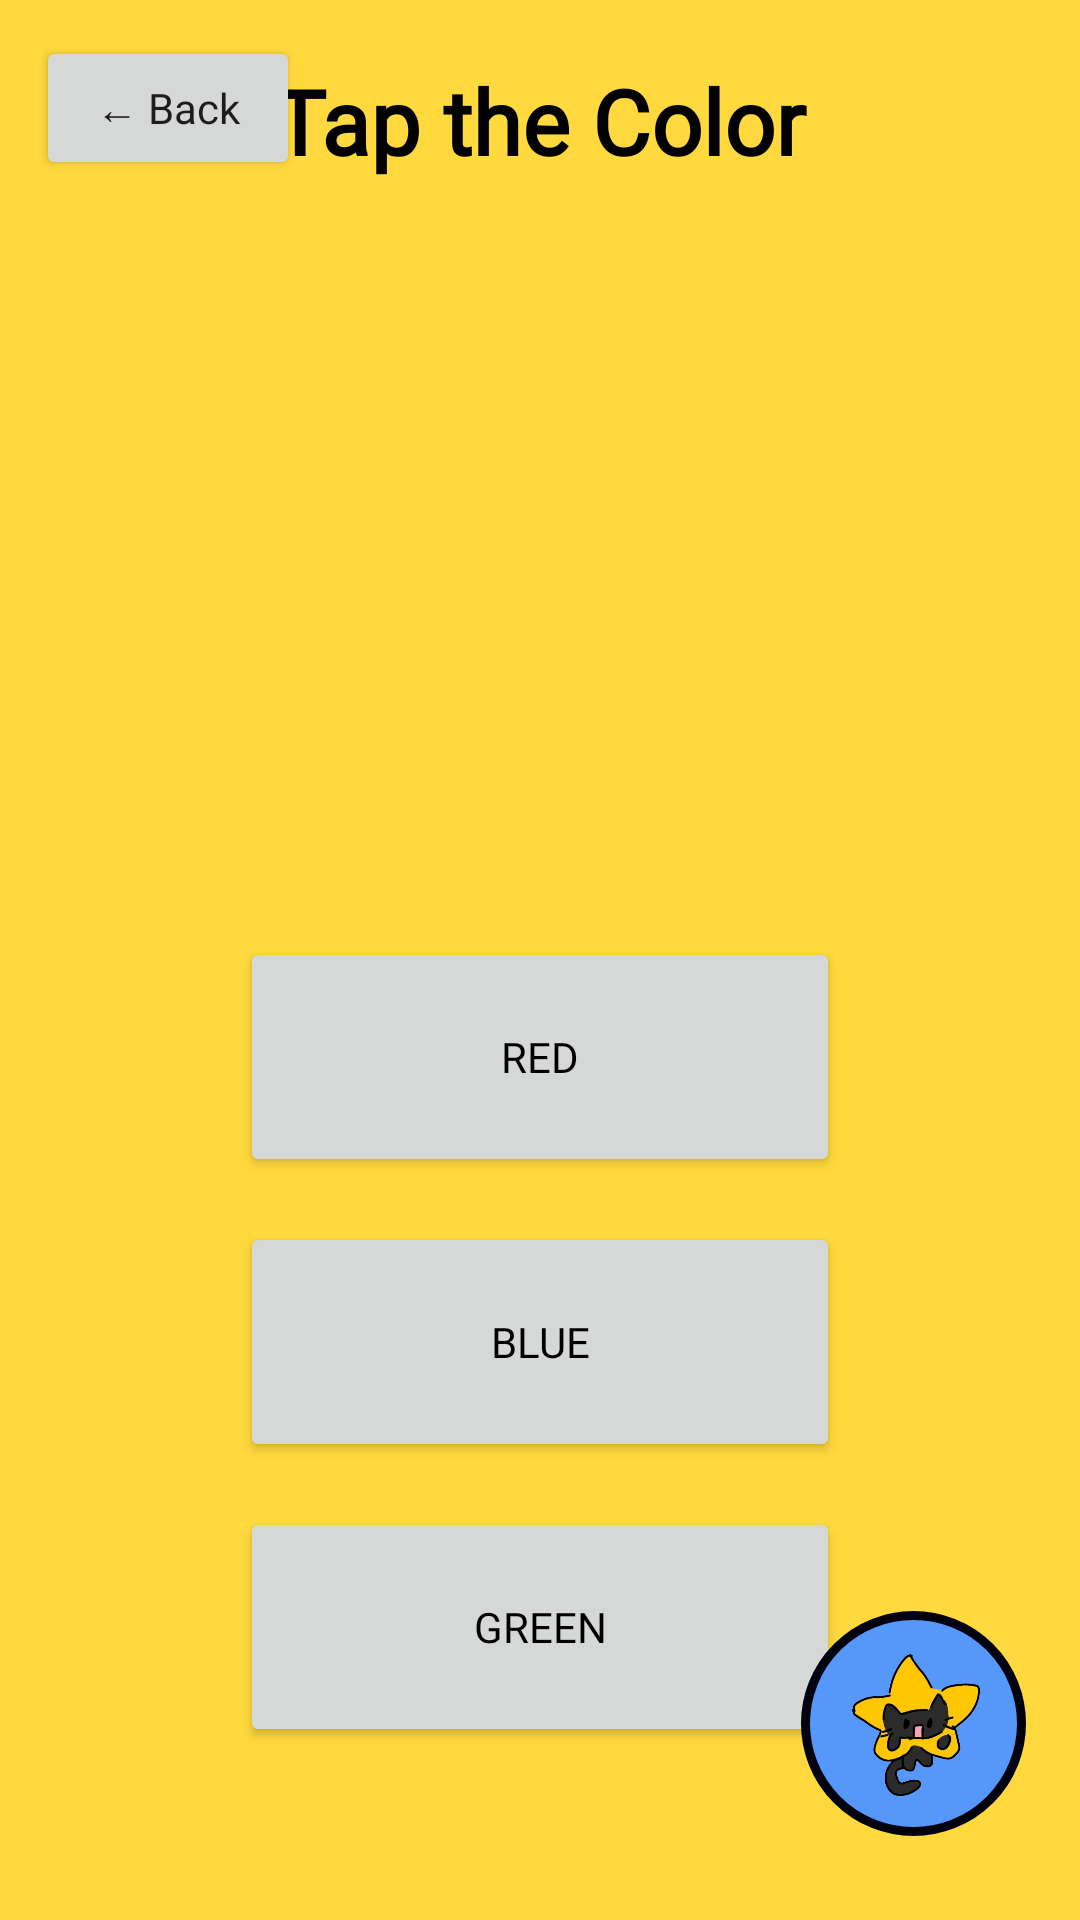

Locate icon controls on the screen. Image size 1080 × 1920, boxes as bbox(x1, y1, x2, y2).
star: bbox(801, 1611, 1026, 1836)
